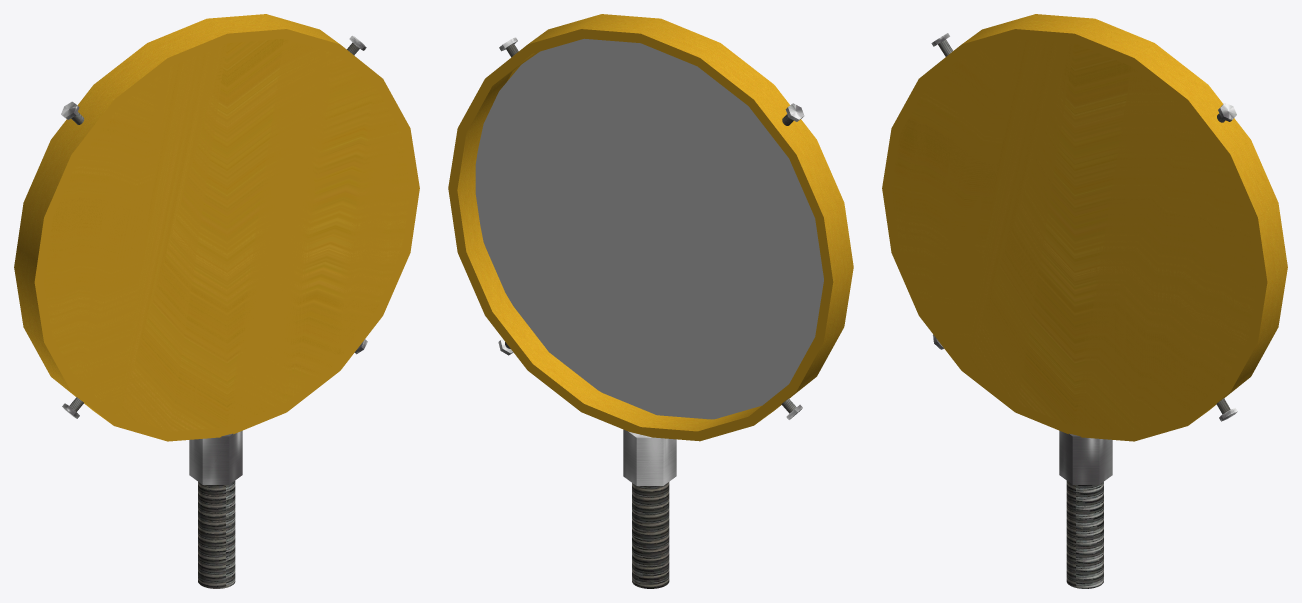
3 renders of one model, left to right at view 1: azimuth 30°, elevation 25°; view 2: azimuth 150°, elevation 25°; view 3: azimuth 330°, elevation 25°, orthographic.
Visible parts, largest first — view 1: 外枠, obj2, obj3; view 2: obj1, 外枠, obj2, obj3; view 3: 外枠, obj2, obj3.
Boxes of the visible parts, x1,y1,x2,y2 form: 外枠: (14, 14, 419, 441); obj2: (198, 481, 235, 588); obj3: (189, 430, 242, 484); obj1: (475, 38, 823, 419); 外枠: (448, 14, 853, 441); obj2: (632, 482, 669, 588); obj3: (623, 429, 676, 485); 外枠: (882, 14, 1287, 441); obj2: (1066, 481, 1103, 588); obj3: (1059, 430, 1112, 484).
Bounding box in the file's own units: 196 × 270 × 23.54.
Materials: 4 (3 with a texture image).
